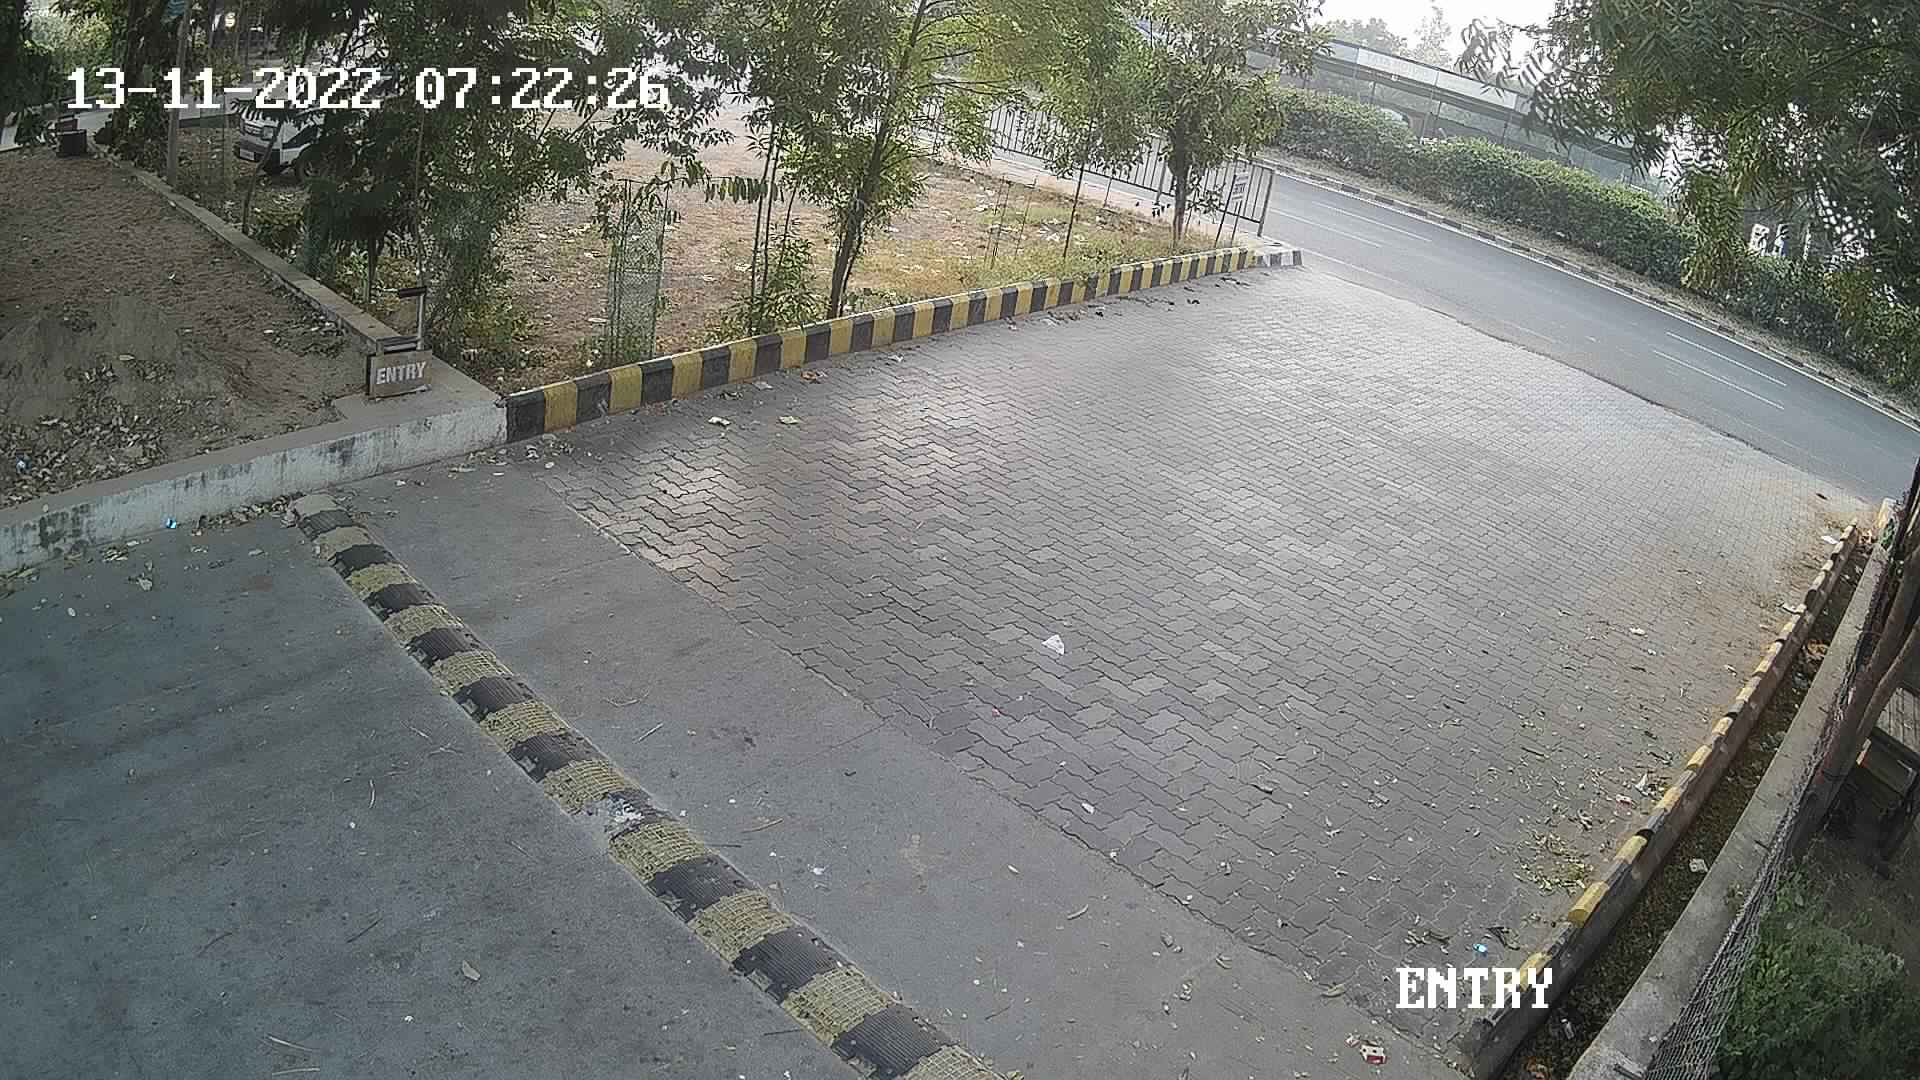Car: (225, 46, 349, 189)
